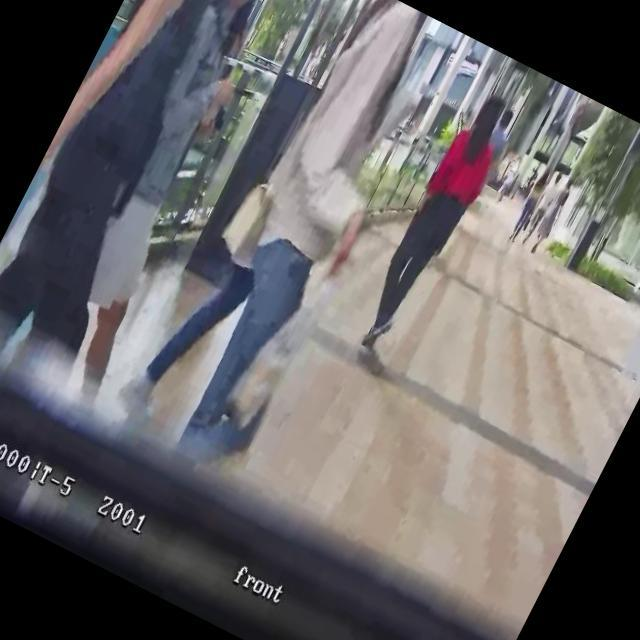person: (113, 0, 445, 460), (0, 0, 319, 405), (346, 84, 524, 363), (172, 230, 325, 445), (506, 164, 555, 243), (525, 182, 574, 258), (518, 171, 566, 248), (480, 106, 522, 166), (492, 153, 527, 206)
